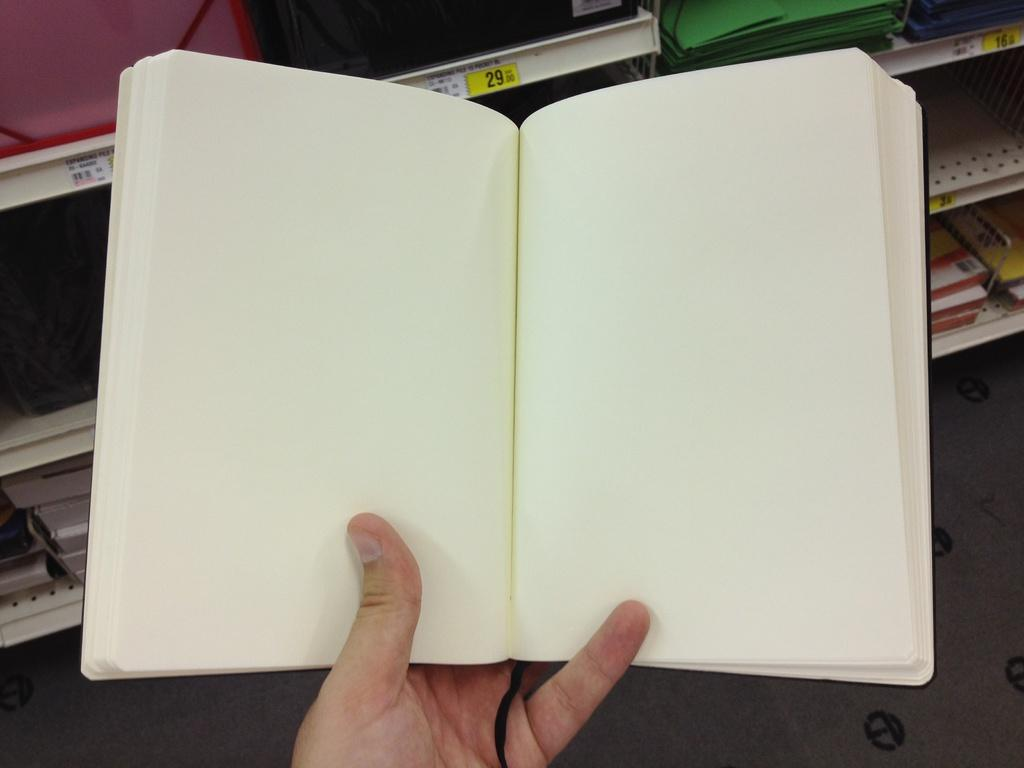book: (77, 41, 1011, 676)
